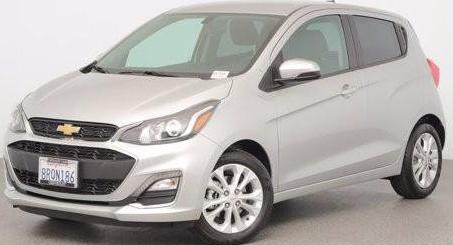Cars: (4, 4, 446, 243)
